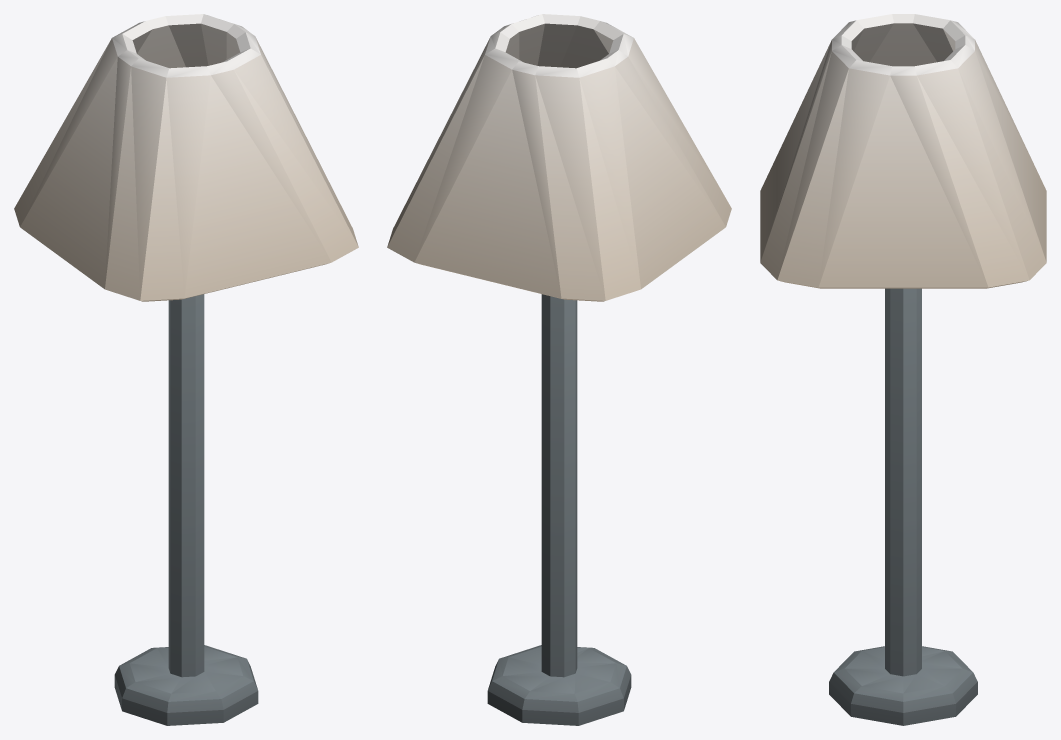
Rendered from home_lamp_standing.fbx.
The picture shows the model from 3 angles, left to right: view 1: azimuth 30°, elevation 25°; view 2: azimuth 150°, elevation 25°; view 3: azimuth 270°, elevation 25°; orthographic projection.
Visible parts, largest first — view 1: home_lamp_standing_LOD0; view 2: home_lamp_standing_LOD0; view 3: home_lamp_standing_LOD0.
Boxes of the visible parts, bbox=[...] form: home_lamp_standing_LOD0: bbox=[14, 14, 358, 725]; home_lamp_standing_LOD0: bbox=[387, 14, 731, 725]; home_lamp_standing_LOD0: bbox=[760, 14, 1046, 725].
Size of what is drawn, in the model's own units: 0.6349 by 1.6 by 0.6349.
Materials: 1 (1 with a texture image).
